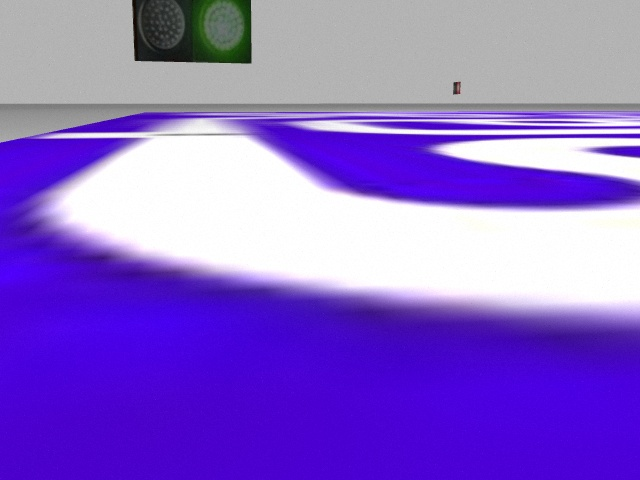green: (192, 1, 250, 59)
